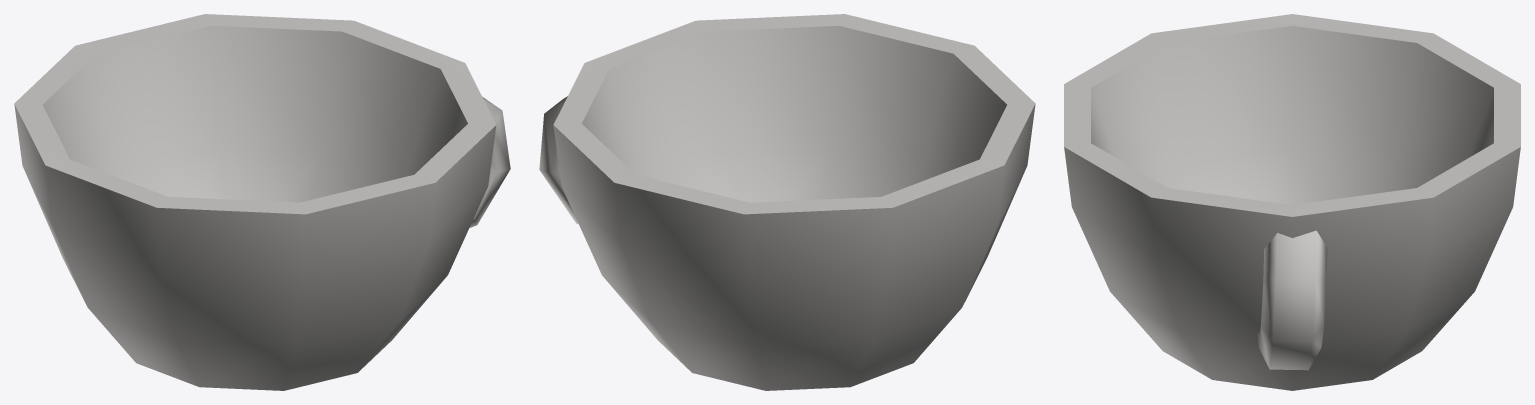
File: Tazza_Manico_2.fbx
3 views of the same model, side by side, from view 1: azimuth 30°, elevation 25°; view 2: azimuth 150°, elevation 25°; view 3: azimuth 270°, elevation 25° (orthographic).
Visible parts, largest first — view 1: Tazza_Manica_2; view 2: Tazza_Manica_2; view 3: Tazza_Manica_2.
Part boxes in pixels (bbox=[...]): Tazza_Manica_2: bbox=[14, 14, 510, 390]; Tazza_Manica_2: bbox=[539, 14, 1035, 390]; Tazza_Manica_2: bbox=[1064, 14, 1520, 390].
Bounding box in the file's own units: 0.1234 × 0.0569 × 0.1082.
